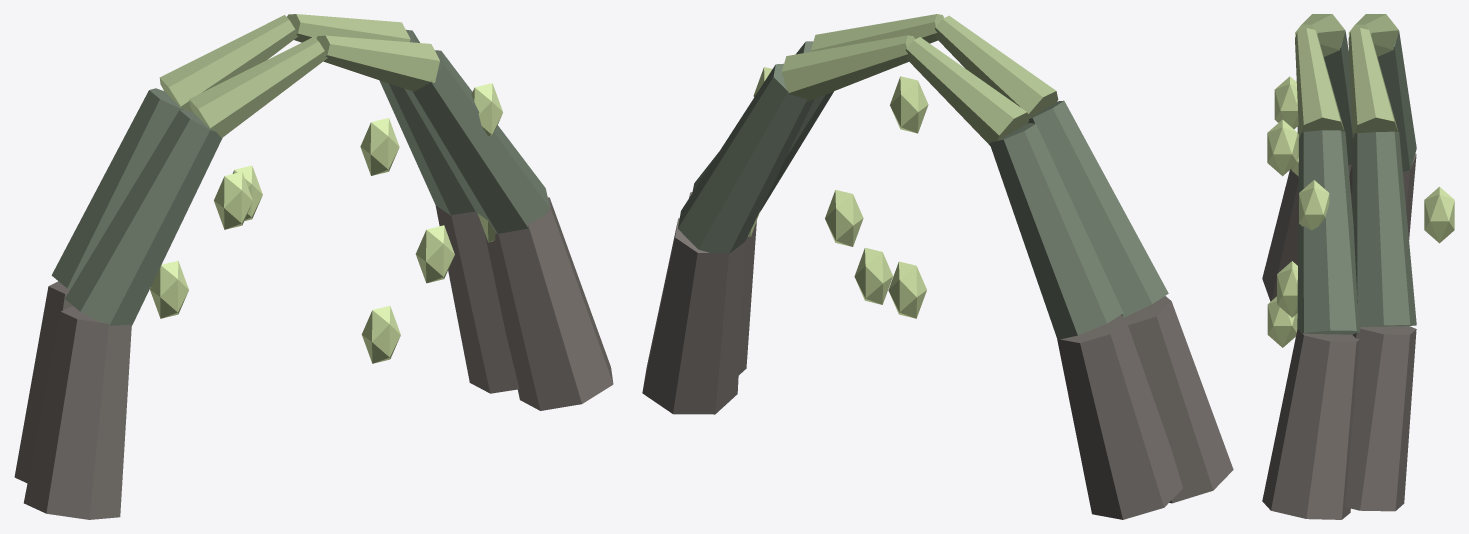
The model's file is hunger_root_arch.glb.
3 renders of one model, left to right at view 1: azimuth 30°, elevation 25°; view 2: azimuth 150°, elevation 25°; view 3: azimuth 270°, elevation 25°, orthographic. The views are drawn at different scales.
Parts seen in each view (by area): view 1: hunger_root_arch_material_00, hunger_root_arch_material_01, hunger_root_arch_material_02, hunger_root_arch_material_03; view 2: hunger_root_arch_material_00, hunger_root_arch_material_01, hunger_root_arch_material_02, hunger_root_arch_material_03; view 3: hunger_root_arch_material_00, hunger_root_arch_material_01, hunger_root_arch_material_02, hunger_root_arch_material_03.
Boxes of the visible parts, <box> form: hunger_root_arch_material_00: <box>14,197,613,519</box>; hunger_root_arch_material_01: <box>51,29,550,326</box>; hunger_root_arch_material_02: <box>159,14,439,137</box>; hunger_root_arch_material_03: <box>150,83,502,363</box>; hunger_root_arch_material_00: <box>642,192,1233,519</box>; hunger_root_arch_material_01: <box>678,41,1168,339</box>; hunger_root_arch_material_02: <box>782,14,1058,145</box>; hunger_root_arch_material_03: <box>748,67,928,318</box>; hunger_root_arch_material_00: <box>1262,153,1416,519</box>; hunger_root_arch_material_01: <box>1297,31,1416,334</box>; hunger_root_arch_material_02: <box>1295,14,1398,138</box>; hunger_root_arch_material_03: <box>1267,76,1454,347</box>.
Bounding box in the file's own units: 3.05 × 2.13 × 0.9687.
